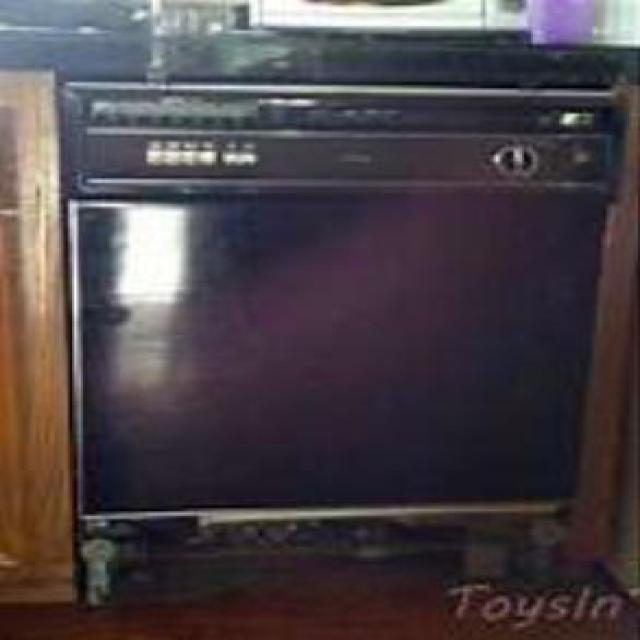dishwasher: (57, 70, 614, 505)
